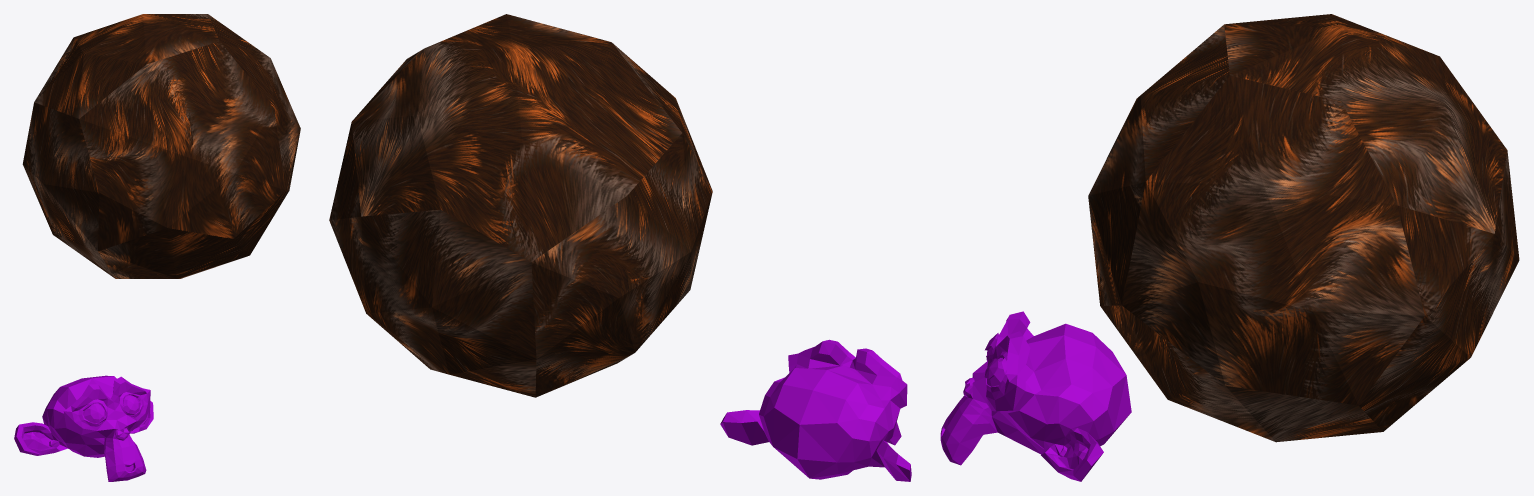
Rendered from ball_01.dae.
3 views of the same model, side by side, from view 1: azimuth 30°, elevation 25°; view 2: azimuth 150°, elevation 25°; view 3: azimuth 270°, elevation 25° (orthographic). The views are drawn at different scales.
Visible parts, largest first — view 1: Icosphere, Suzanne; view 2: Icosphere, Suzanne; view 3: Icosphere, Suzanne.
Boxes of the visible parts, <box> form: Icosphere: <box>22,14,300,278</box>; Suzanne: <box>14,375,153,481</box>; Icosphere: <box>329,14,712,397</box>; Suzanne: <box>720,339,911,481</box>; Icosphere: <box>1088,14,1519,442</box>; Suzanne: <box>940,311,1131,481</box>.
Size of the model in its own units: 2.77 by 2.64 by 2.69.
